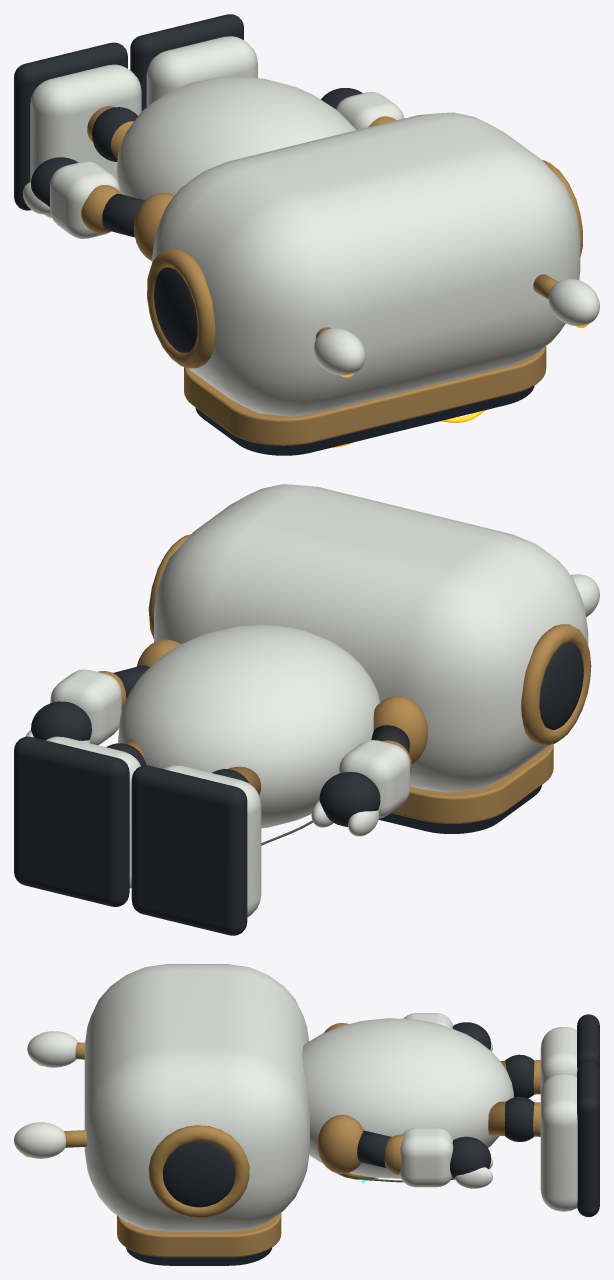
The model's file is bip-v3.glb.
The picture shows the model from 3 angles, top to bottom: view 1: azimuth 30°, elevation 25°; view 2: azimuth 150°, elevation 25°; view 3: azimuth 270°, elevation 25°; orthographic projection. The views are drawn at different scales.
Parts seen in each view (by area): view 1: Ivory helmet, Round ivory torso, Face brass edge, Ivory boot, Foot sole, Ivory boot.001, Helmet side ring, Graphite display, Foot sole.001, Ivory forearm, Side cap, Antenna ivory tip (+8 smaller); view 2: Ivory helmet, Round ivory torso, Foot sole, Foot sole.001, Face brass edge, Helmet side ring, Ivory forearm, Ivory forearm.001, Side cap, Ivory boot, Mitten gripper, Shoulder (+7 smaller); view 3: Ivory helmet, Round ivory torso, Ivory boot.001, Face brass edge, Side cap.001, Helmet side ring.001, Foot sole.001, Ivory forearm.001, Shoulder.001, Ivory boot, Antenna ivory tip.001, Antenna ivory tip (+11 smaller).
Boxes of the visible parts, x1,y1,x2,y2 form: Ivory helmet: [152, 112, 580, 416]; Round ivory torso: [116, 77, 356, 200]; Face brass edge: [184, 346, 546, 445]; Ivory boot: [30, 64, 141, 217]; Foot sole: [14, 42, 127, 210]; Ivory boot.001: [146, 36, 257, 106]; Helmet side ring: [147, 249, 215, 368]; Graphite display: [195, 385, 534, 455]; Foot sole.001: [130, 14, 243, 110]; Ivory forearm: [50, 161, 120, 238]; Side cap: [154, 267, 197, 352]; Antenna ivory tip: [314, 328, 365, 375]; Ivory helmet: [154, 484, 588, 792]; Round ivory torso: [118, 624, 380, 828]; Foot sole: [131, 765, 247, 935]; Foot sole.001: [14, 736, 129, 906]; Face brass edge: [391, 744, 553, 823]; Helmet side ring: [521, 624, 591, 745]; Ivory forearm: [339, 740, 410, 818]; Ivory forearm.001: [50, 669, 121, 745]; Side cap: [539, 643, 583, 729]; Ivory boot: [164, 765, 261, 917]; Mitten gripper: [319, 772, 380, 826]; Shoulder: [373, 696, 428, 764]; Ivory helmet: [84, 964, 309, 1231]; Round ivory torso: [302, 1018, 513, 1178]; Ivory boot.001: [540, 1073, 577, 1211]; Face brass edge: [117, 1213, 281, 1257]; Side cap.001: [163, 1141, 235, 1207]; Helmet side ring.001: [148, 1125, 249, 1218]; Foot sole.001: [577, 1061, 599, 1217]; Ivory forearm.001: [399, 1127, 453, 1187]; Shoulder.001: [317, 1115, 363, 1173]; Ivory boot: [540, 1027, 577, 1094]; Antenna ivory tip.001: [14, 1122, 65, 1158]; Antenna ivory tip: [27, 1031, 78, 1067].
Size of the model in its own units: 1.96 by 1.25 by 3.07.
